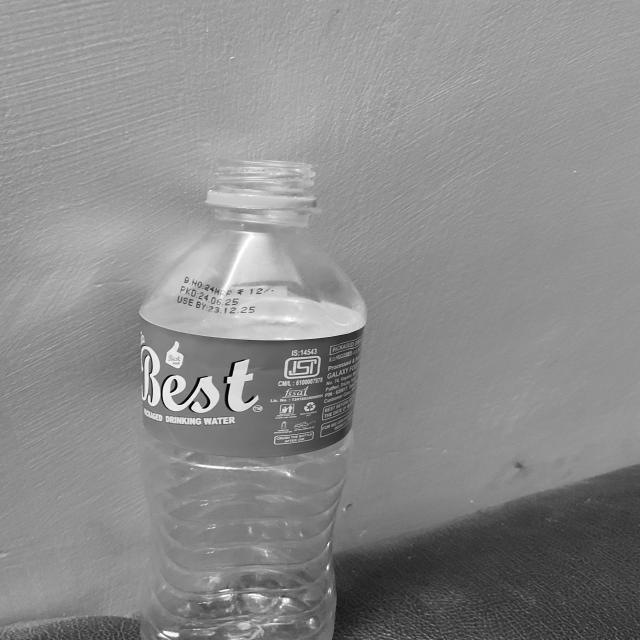open-cap: (207, 156, 321, 213)
